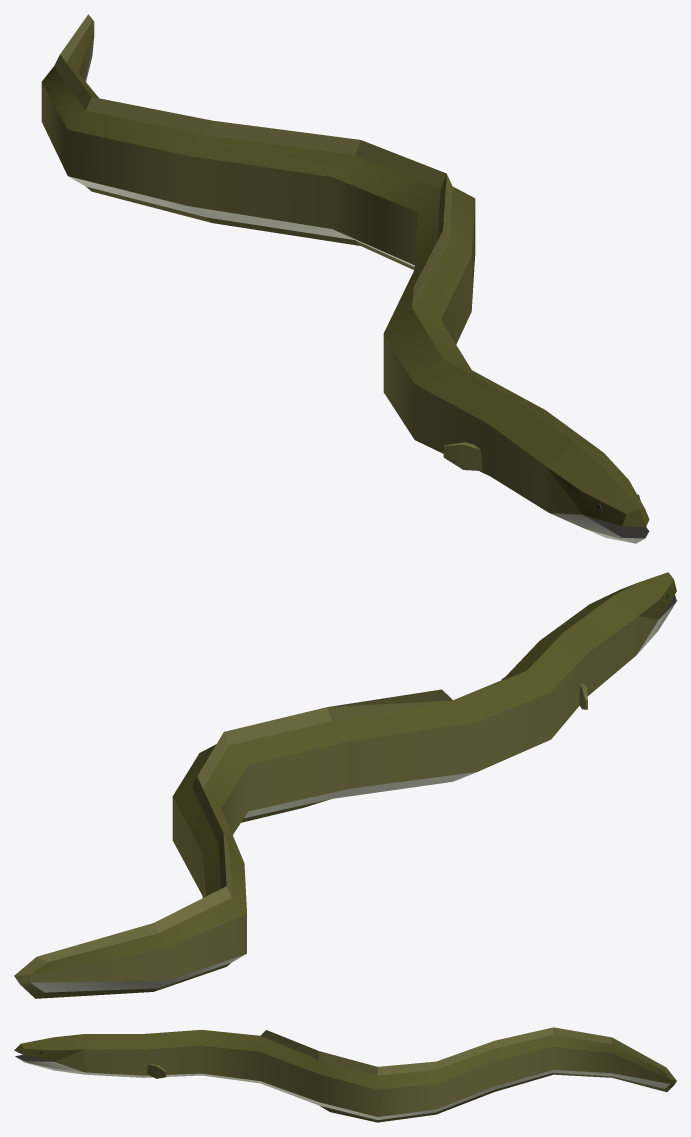
File: Mesh_Eel.obj
The picture shows the model from 3 angles, top to bottom: view 1: azimuth 30°, elevation 25°; view 2: azimuth 150°, elevation 25°; view 3: azimuth 270°, elevation 25°; orthographic projection. The views are drawn at different scales.
Visible parts, largest first — view 1: Geo_Eel; view 2: Geo_Eel; view 3: Geo_Eel.
Part boxes in pixels (x1,y1,x2,y2): Geo_Eel: (41, 14, 649, 543); Geo_Eel: (14, 572, 676, 998); Geo_Eel: (14, 1027, 676, 1122).
Bounding box in the file's own units: 11.81 × 5.39 × 55.68.
1 material, 1 textured.
